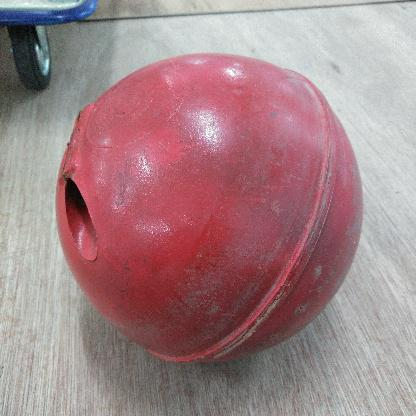red_buoy: (54, 49, 366, 367)
